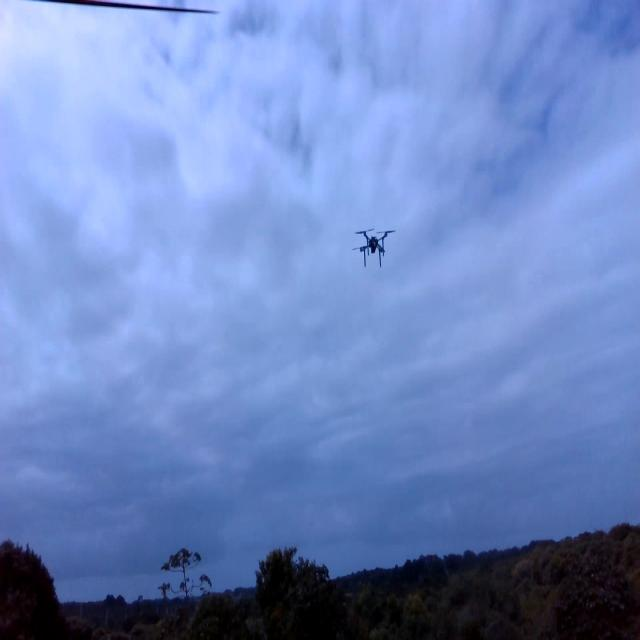-uav-: (344, 218, 398, 279)
